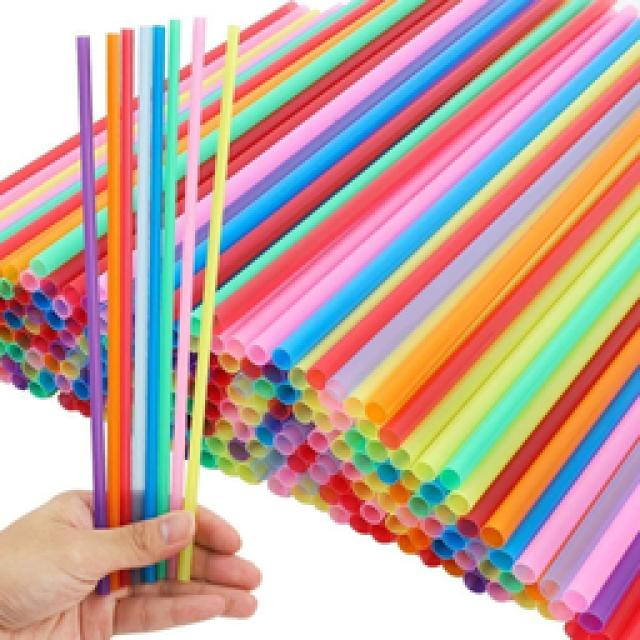plastic: (0, 0, 638, 638), (108, 550, 188, 582)
